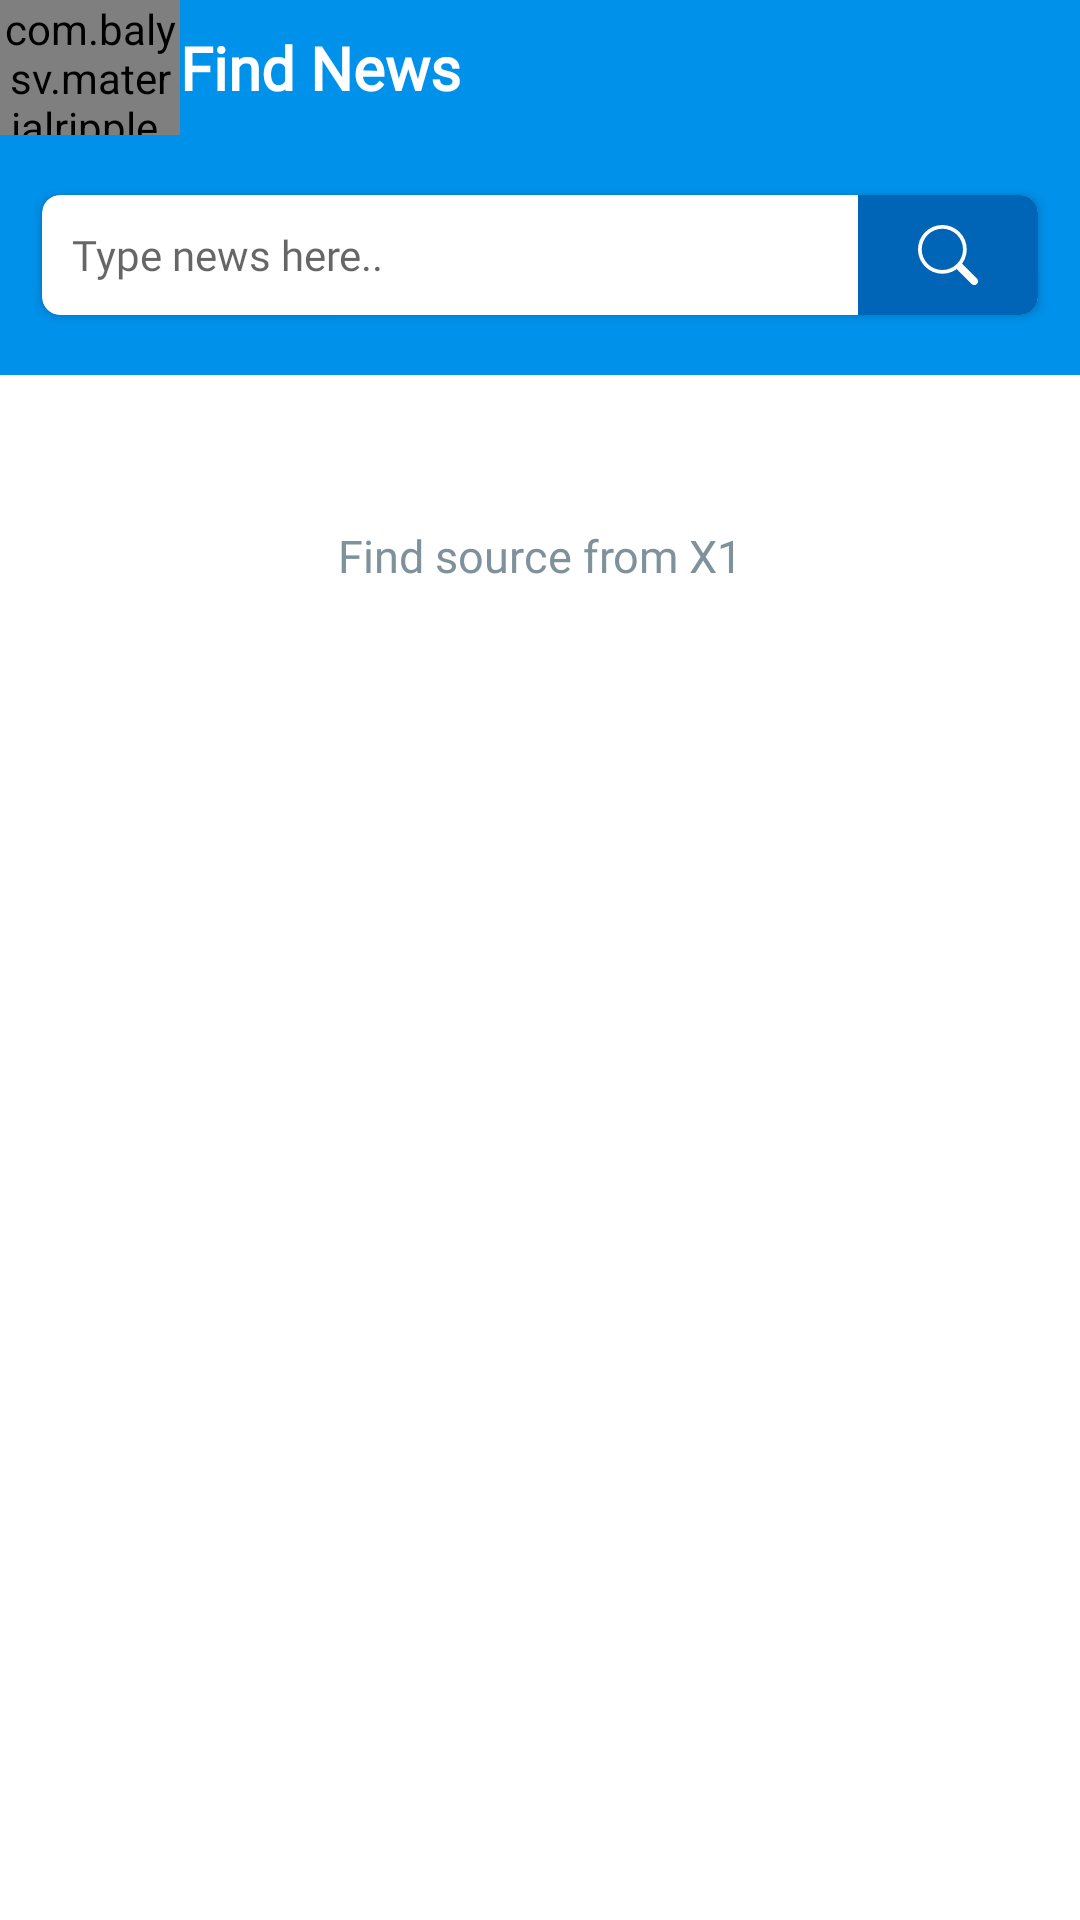

Screen size 1080x1920. Icon name, then its box in pixels as box(x1, y1, x2, y2):
search: box(858, 195, 1038, 315)
